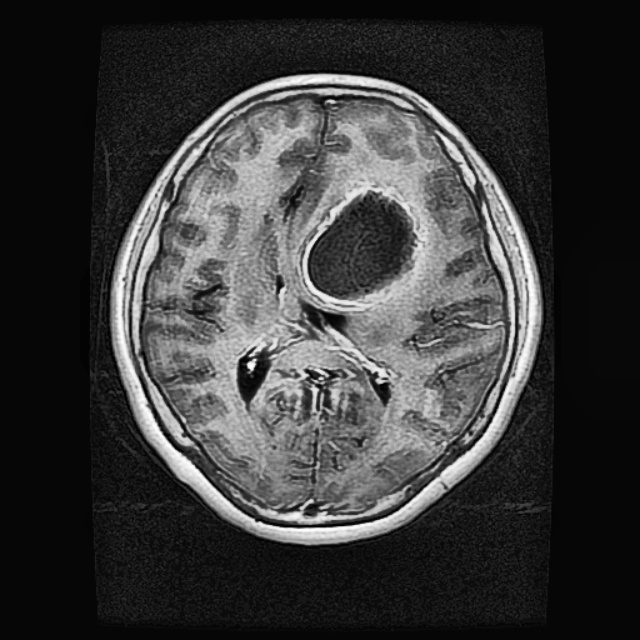Pituitary: (299, 180, 428, 307)
